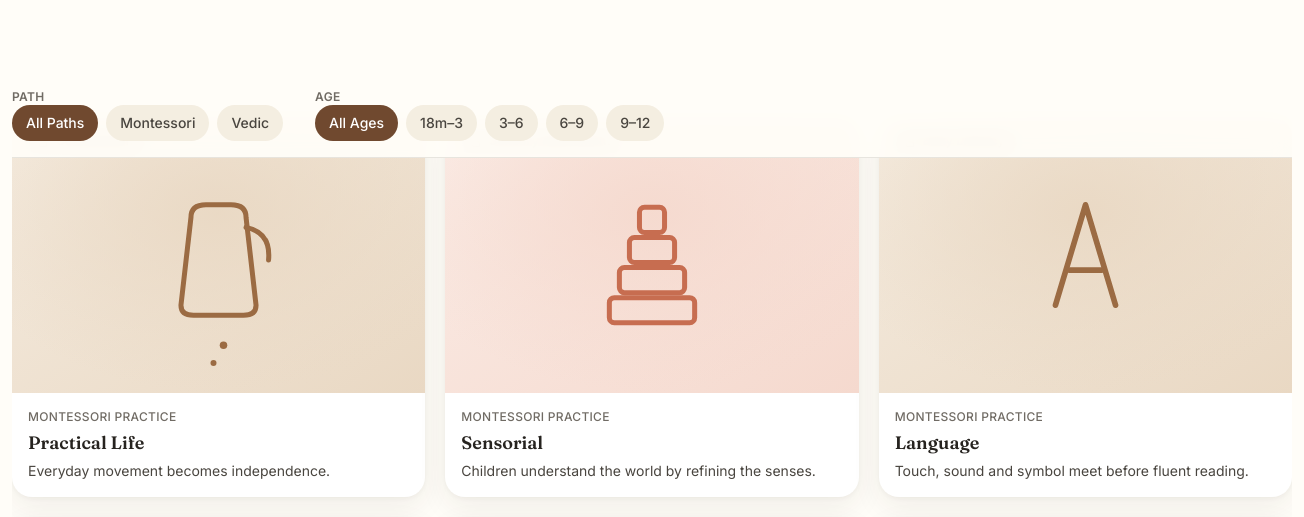
Scenario: CurriculumExplorer › shows an empty state when no area matches the combined filters
Click the button "Montessori". click: {"x": 158, "y": 123}
box: [106, 105, 209, 141]
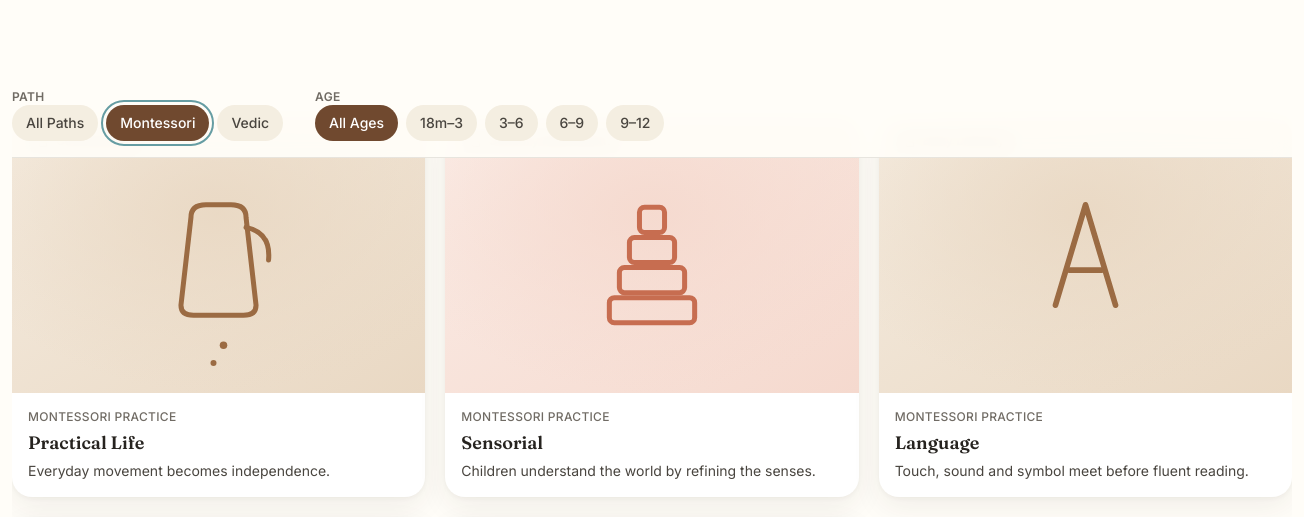
Click the button "9–12". click: {"x": 635, "y": 123}
box: [606, 105, 664, 141]
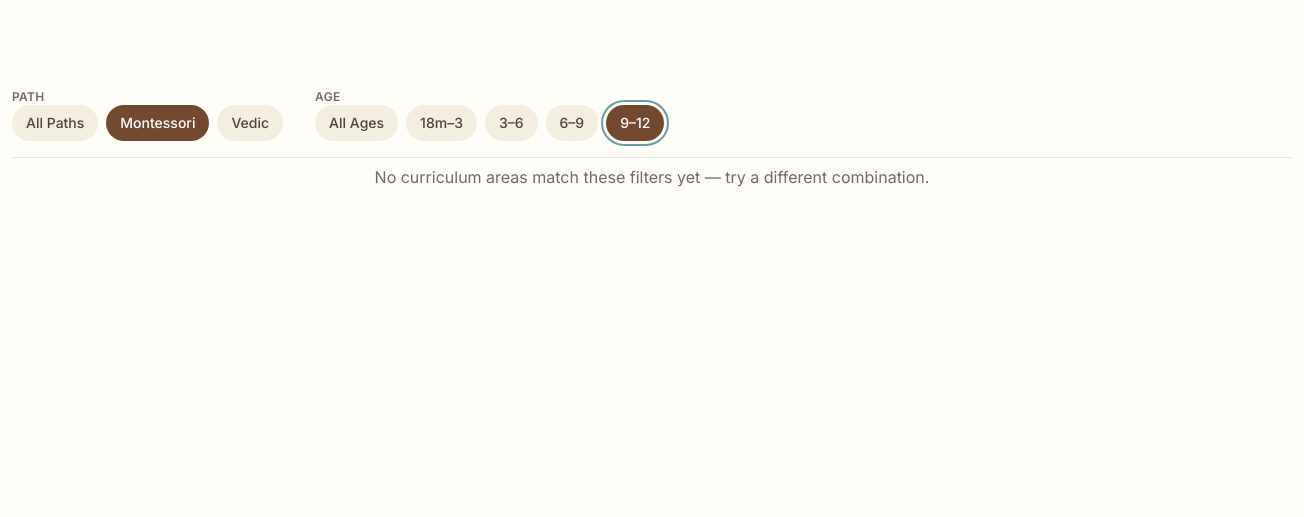
Expected: the text "No curriculum areas match" is shown, [375, 167, 929, 187]
